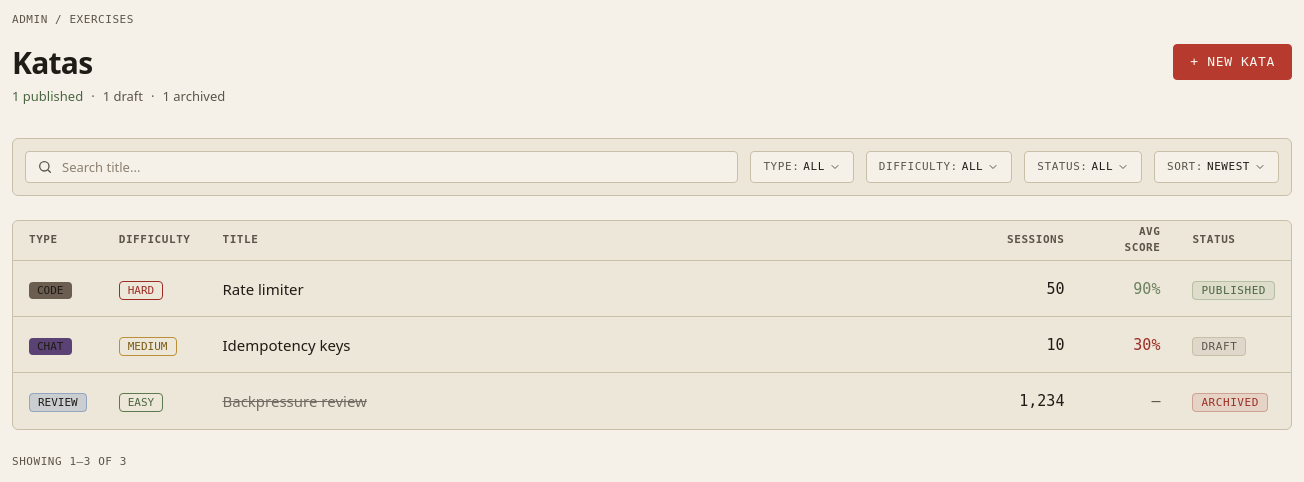
Test: AdminKatasPage › filters rows by the search box (title substring)
The width and height of the screenshot is (1304, 482).
Expected: the link "Rate limiter" is shown, [222,278,304,298]
Type "idempo" into the field with placeholder "Search title..." at (382, 166), box [25,150,738,182]
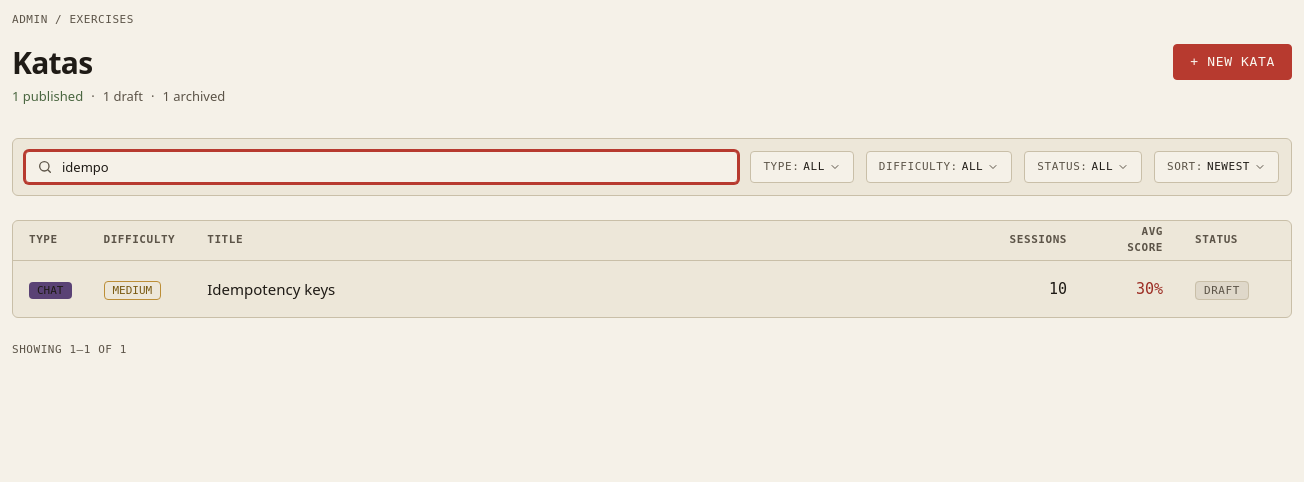
Expected: the link "Idempotency keys" is shown, [207,279,335,299]
Expected: the link "Rate limiter" is gone
Expected: the link "Backpressure review" is gone
